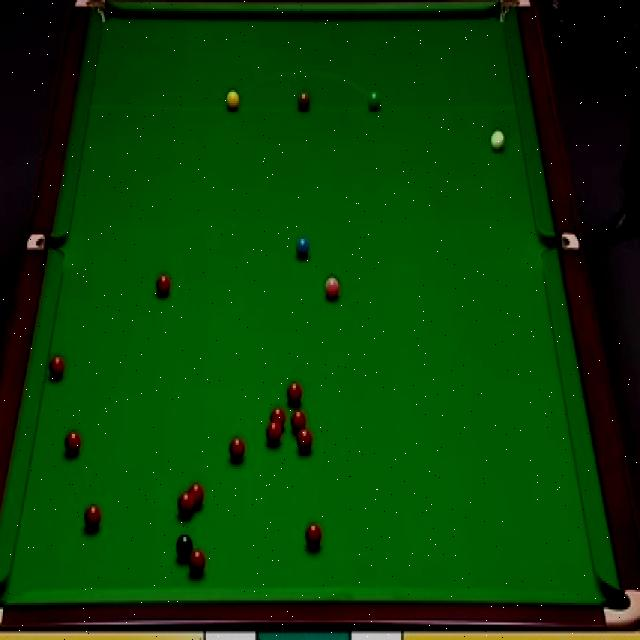black-ball: (176, 533, 195, 558)
blue-ball: (295, 234, 310, 262)
brown-ball: (296, 90, 310, 110)
green-ball: (366, 90, 380, 110)
pink-ball: (324, 278, 341, 302)
red-ball: (303, 519, 323, 552), (47, 354, 67, 383), (227, 434, 246, 464), (268, 404, 288, 432), (80, 502, 100, 530), (61, 427, 80, 456), (284, 381, 305, 405), (178, 490, 195, 517), (265, 422, 283, 446), (293, 413, 310, 438), (190, 483, 207, 508), (190, 550, 205, 578), (297, 428, 312, 450), (155, 276, 171, 296)
white-ball: (490, 130, 504, 152)
yellow-ball: (225, 90, 240, 110)
